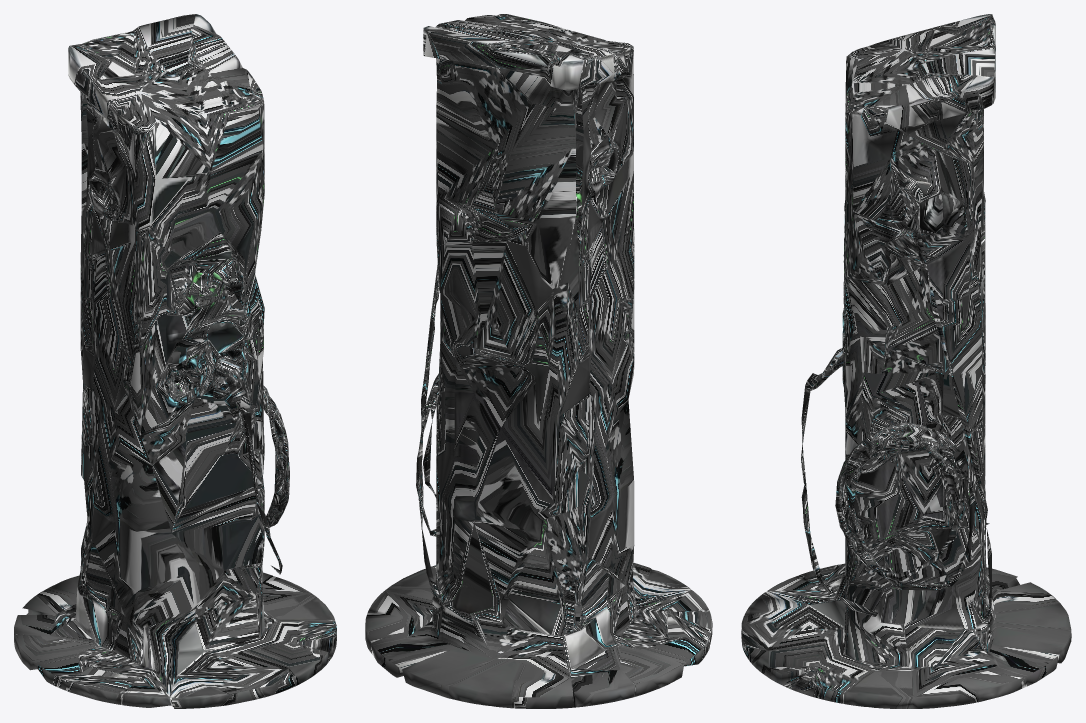
The model's file is stasiun-cas-far.glb.
The picture shows the model from 3 angles, left to right: view 1: azimuth 30°, elevation 25°; view 2: azimuth 150°, elevation 25°; view 3: azimuth 270°, elevation 25°; orthographic projection. The views are drawn at different scales.
Size of the model in its own units: 0.9537 by 1.9 by 0.9554.
1 material, 1 textured.
